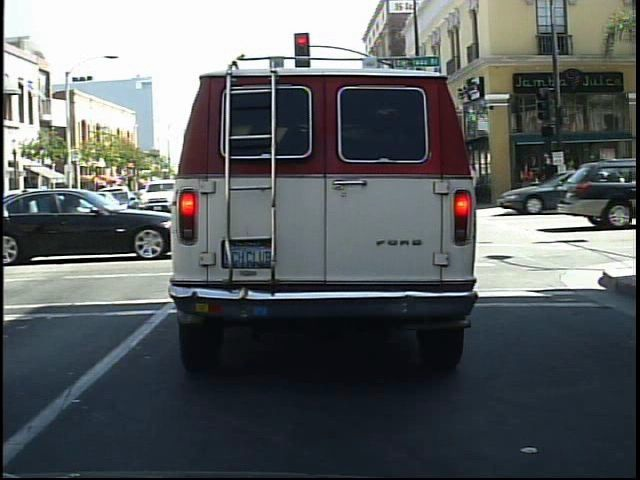person: (538, 147, 559, 209), (537, 154, 561, 208), (516, 157, 539, 207), (553, 158, 573, 208)
